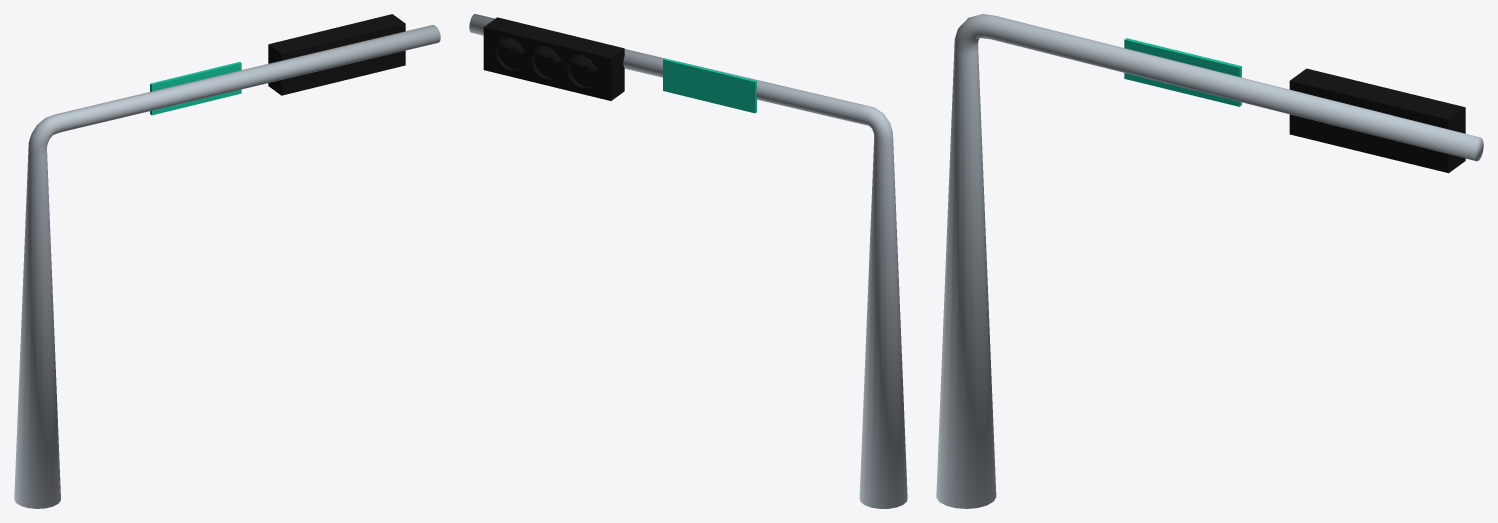
The model's file is semaforo.obj.
3 renders of one model, left to right at view 1: azimuth 30°, elevation 25°; view 2: azimuth 150°, elevation 25°; view 3: azimuth 330°, elevation 25°, orthographic. The views are drawn at different scales.
Parts seen in each view (by area): view 1: Cilindro; view 2: Cilindro; view 3: Cilindro.
Boxes of the visible parts, left/top/right/bottom form: Cilindro: left=14, top=14, right=440, bottom=508; Cilindro: left=469, top=14, right=907, bottom=508; Cilindro: left=936, top=14, right=1483, bottom=508.
Size of the model in its own units: 12.42 by 10.79 by 1.8.
